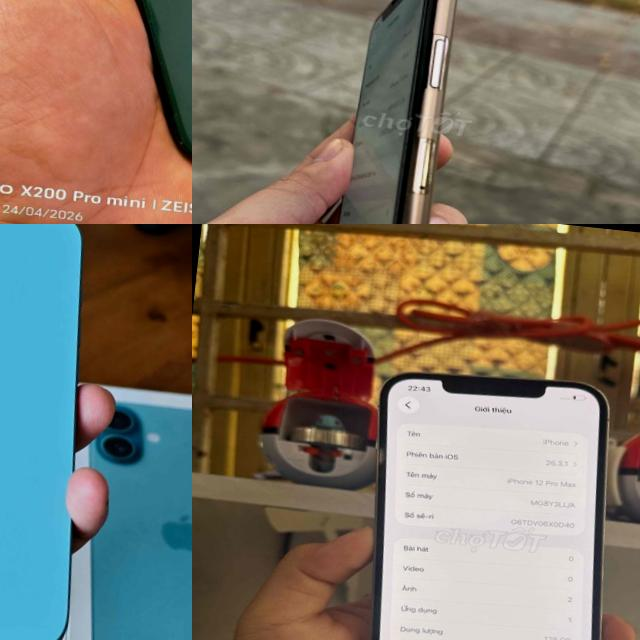gen_11: (297, 0, 505, 224)
gen_12_13: (347, 358, 634, 640), (4, 0, 192, 197)
gen_16: (0, 224, 116, 640)
